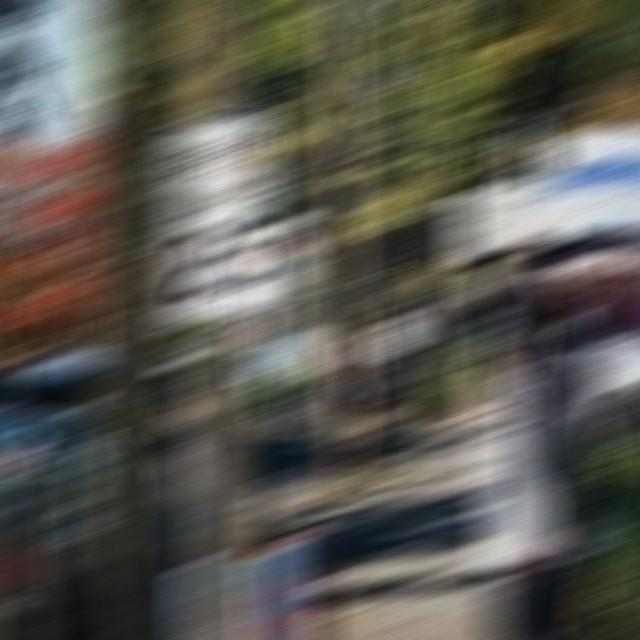speedLimit25: (160, 118, 278, 320)
